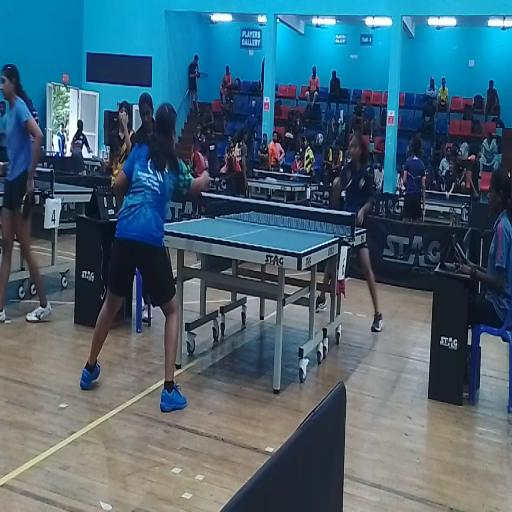ball: (266, 178, 278, 185)
